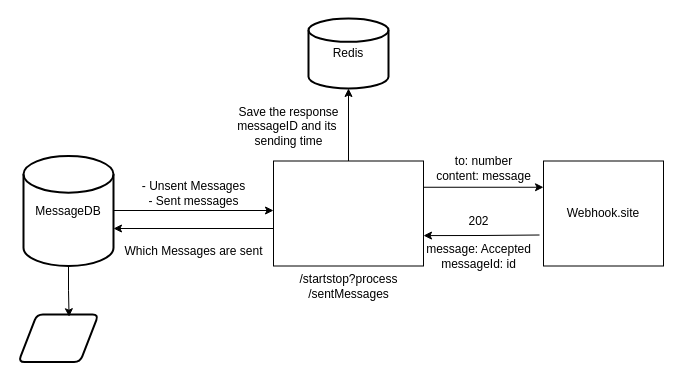
This 681x380 diagram has some shape labels left out. Here are the shapes that lost their labels. From the top down, the box of each, then its label:
(272, 160, 424, 266): MessageServer
(17, 313, 99, 362): content receiver status
